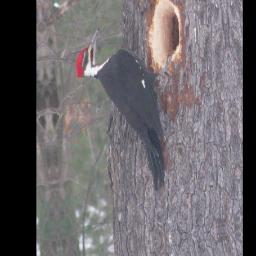Woodpecker: (71, 17, 187, 204)
